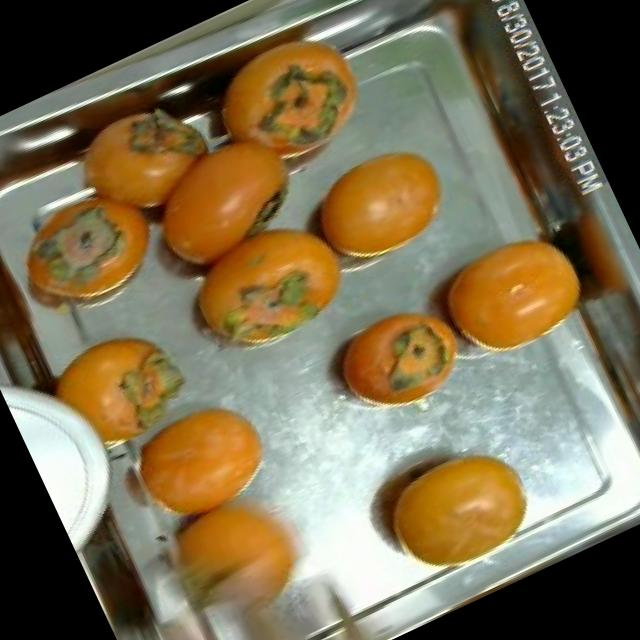Fruit: (148, 188, 372, 384), (408, 200, 618, 392), (89, 374, 300, 562), (0, 154, 193, 351), (348, 414, 555, 596), (15, 298, 214, 472), (282, 120, 472, 288), (304, 282, 484, 441)
